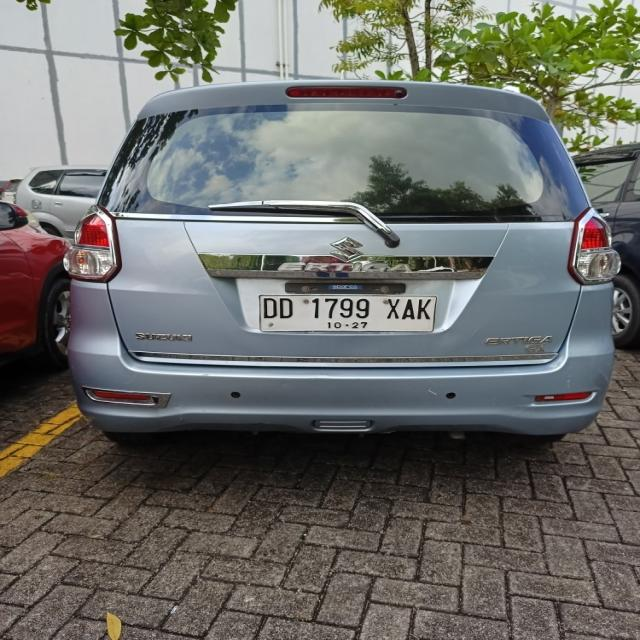plates: (254, 290, 439, 332)
